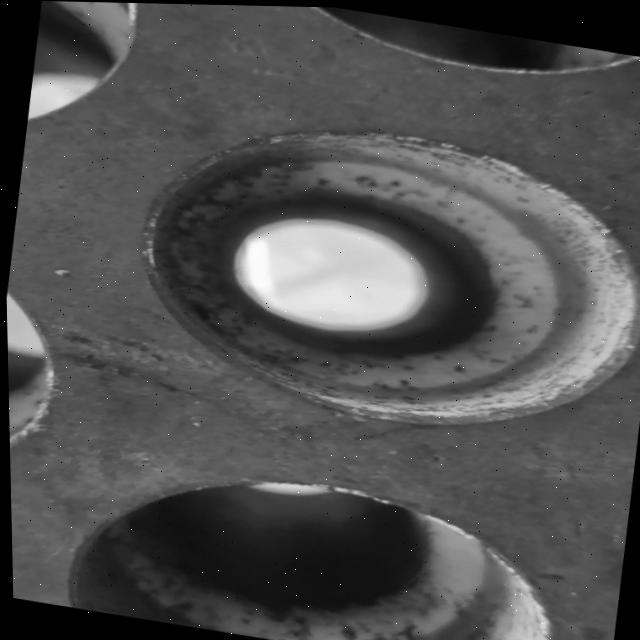Hole: (117, 95, 640, 459), (50, 444, 574, 640)
